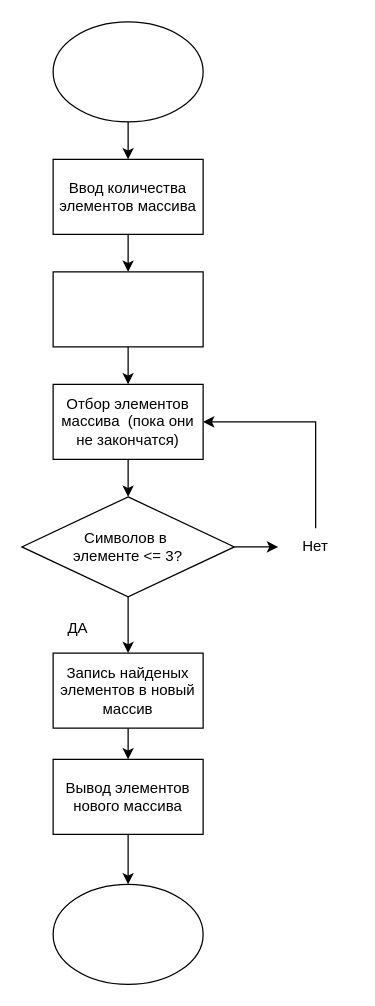
The diagram is 375 pixels wide and 1006 high, and some of its shapes have lost their labels. The shapes that lost their labels are listed below. From the top down, each one's box as (x1, y1, x2, y2) in pixels, then its label:
(52, 21, 203, 122): НАЧАЛО
(52, 271, 203, 347): Ввод каждого элемента массива
(52, 883, 203, 984): КОНЕЦ
